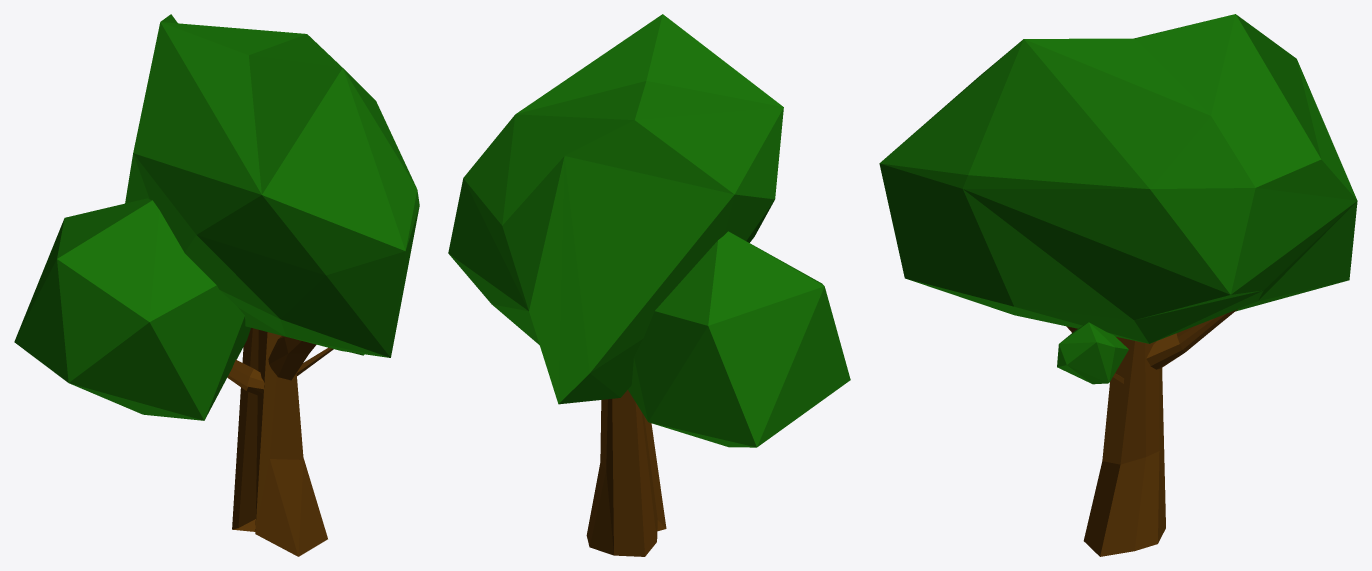
Rendered from Bush#7.fbx.
3 views of the same model, side by side, from view 1: azimuth 30°, elevation 25°; view 2: azimuth 150°, elevation 25°; view 3: azimuth 270°, elevation 25° (orthographic). The views are drawn at different scales.
Parts seen in each view (by area): view 1: Bush#7; view 2: Bush#7; view 3: Bush#7.
Boxes of the visible parts, <box> form: Bush#7: <box>14,14,419,556</box>; Bush#7: <box>448,14,850,556</box>; Bush#7: <box>879,14,1357,556</box>.
Size of the model in its own units: 125 by 173 by 147.
